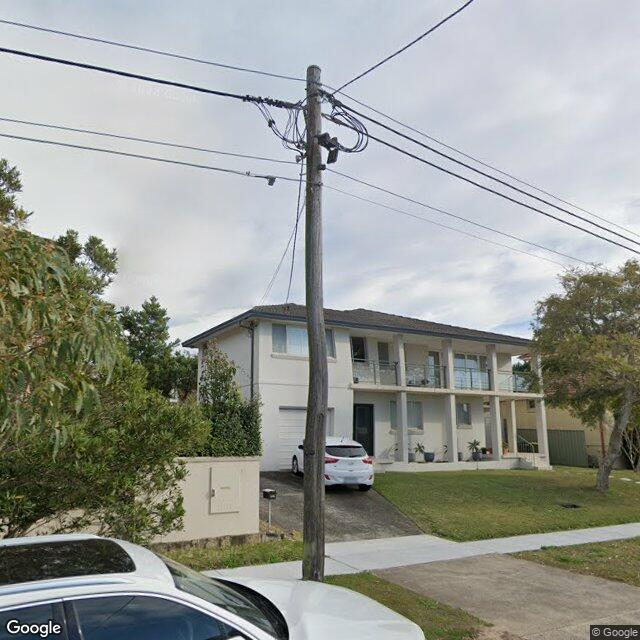timber-pole: (302, 64, 328, 583)
